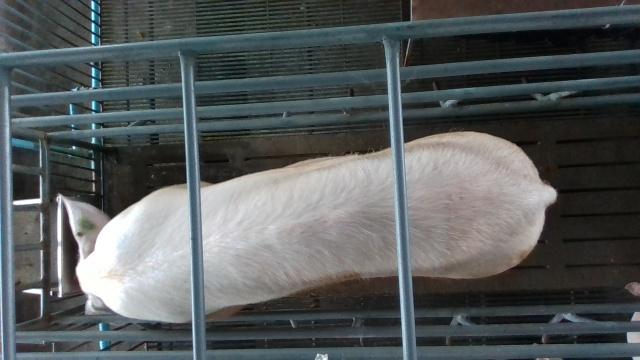sow-stand-feed: (55, 127, 562, 321)
